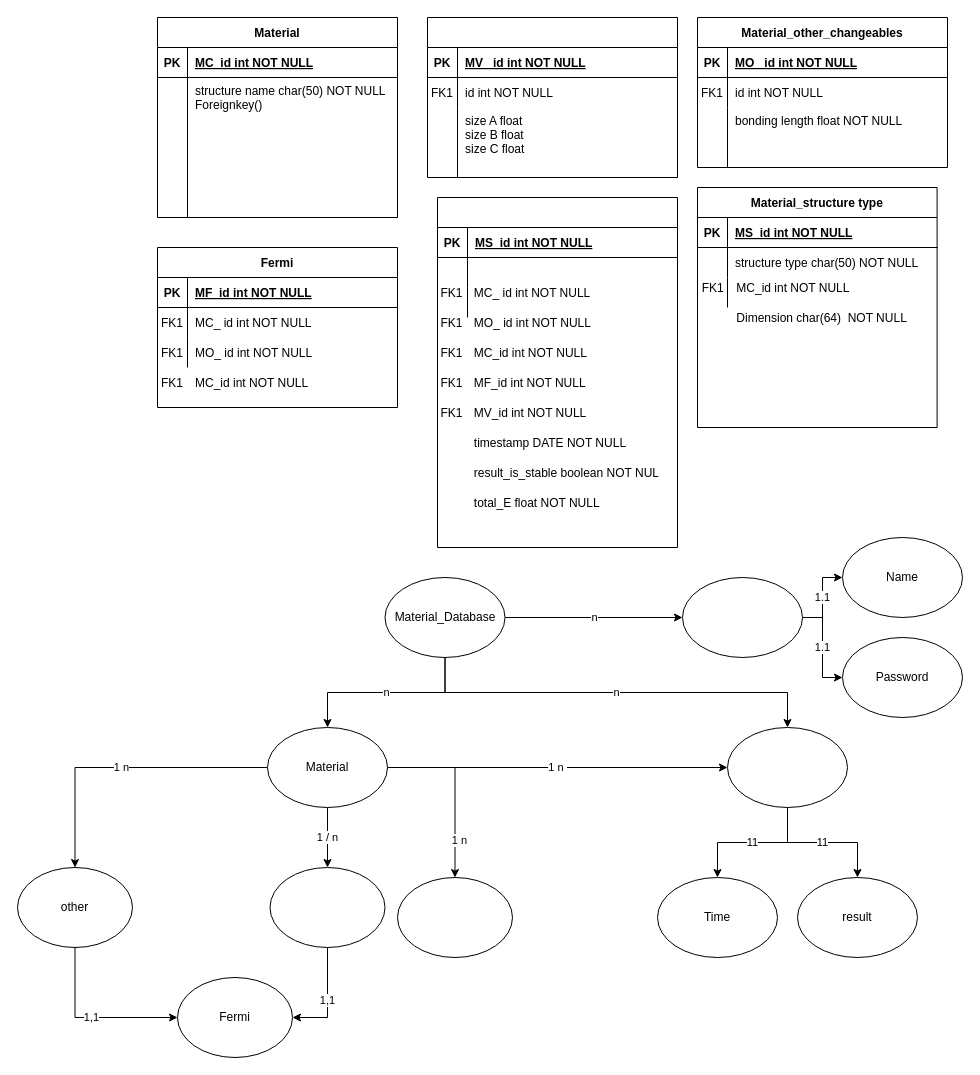
The diagram is 980 pixels wide and 1075 high, and some of its shapes have lost their labels. The shapes that lost their labels are listed below. From the top down, each one's box as (x1, y1, x2, y2) in pixels, then its label:
(426, 16, 678, 178): Material_volume_changeables
(436, 196, 678, 548): Simulation Results
(682, 576, 802, 658): User
(726, 726, 848, 808): Simulation
(269, 866, 385, 948): structure type
(396, 876, 512, 958): Volume
